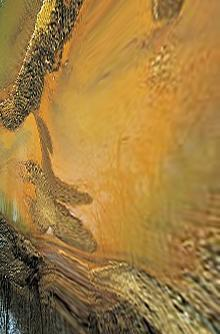Acid Pollution: (4, 0, 220, 279)
